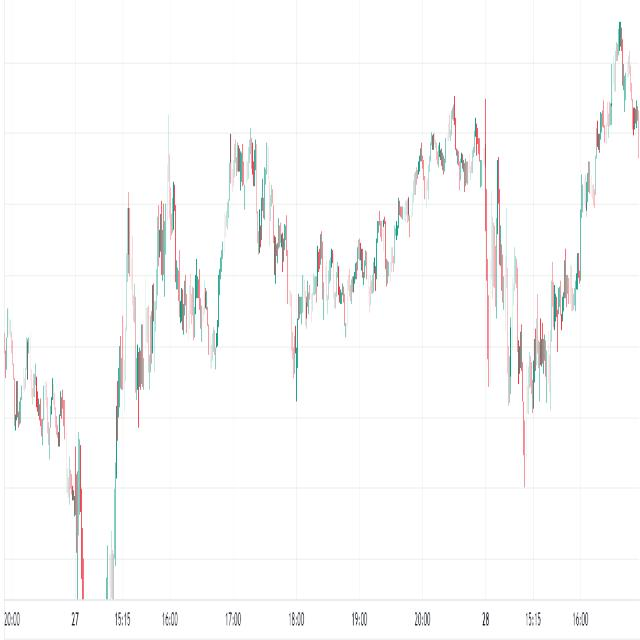Cup-and-handle: (228, 88, 478, 382)
Rounding-Bottom: (232, 79, 458, 393), (476, 108, 603, 470)
